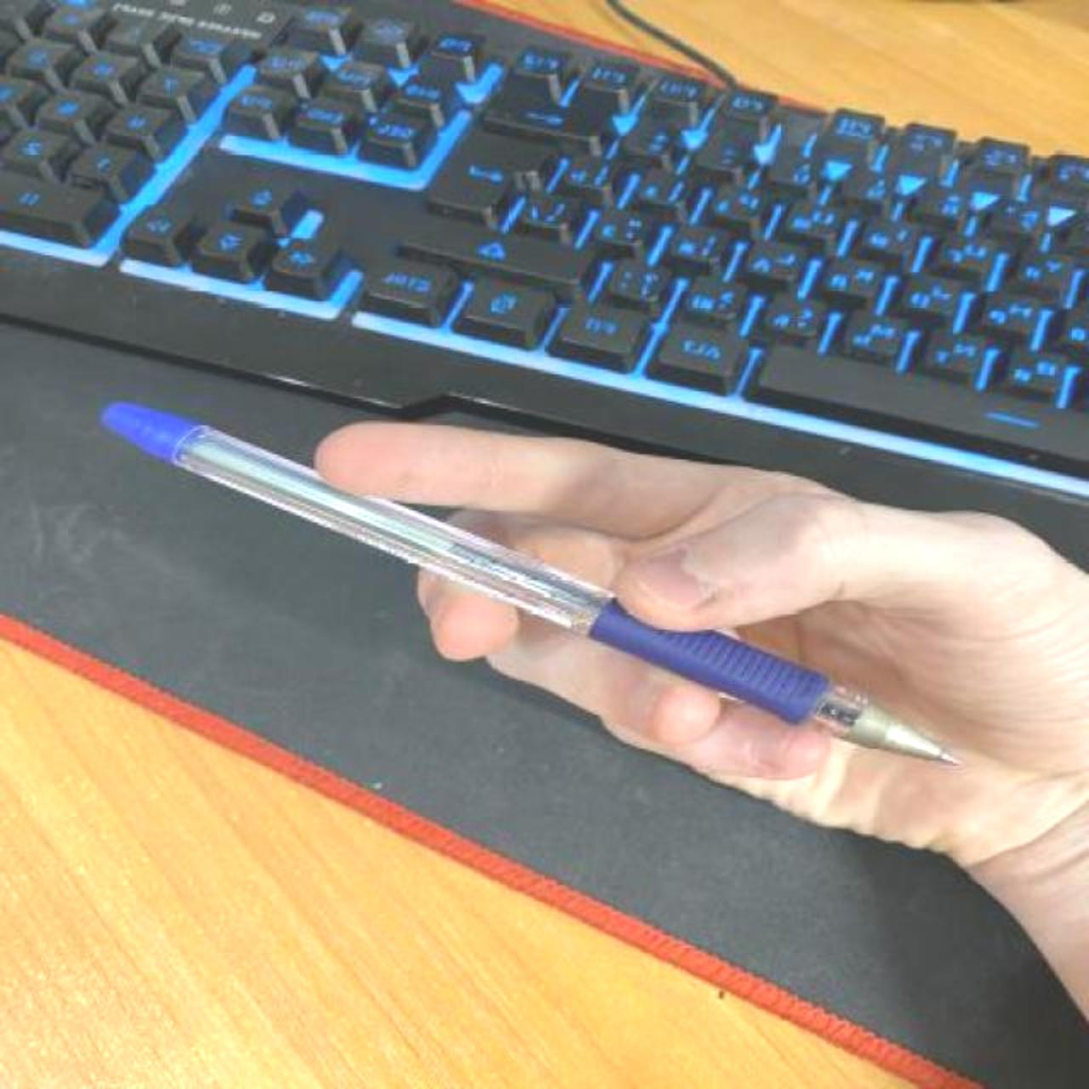pen: (92, 400, 963, 769)
